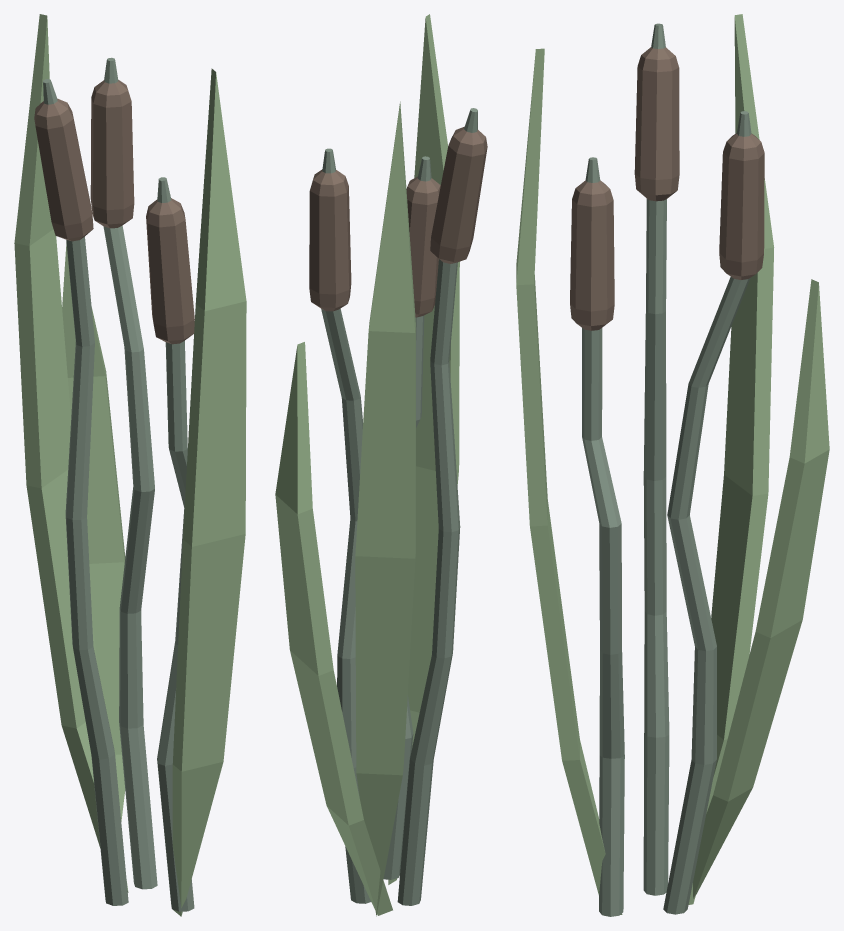
The model's file is Cattails.fbx.
The picture shows the model from 3 angles, left to right: view 1: azimuth 30°, elevation 25°; view 2: azimuth 150°, elevation 25°; view 3: azimuth 270°, elevation 25°; orthographic projection. The views are drawn at different scales.
Parts seen in each view (by area): view 1: Cattails; view 2: Cattails; view 3: Cattails.
Part boxes in pixels (<box>): Cattails: <box>14,14,246,916</box>; Cattails: <box>275,14,487,916</box>; Cattails: <box>516,14,829,916</box>.
Size of the model in its own units: 0.7105 by 4.06 by 1.33.
